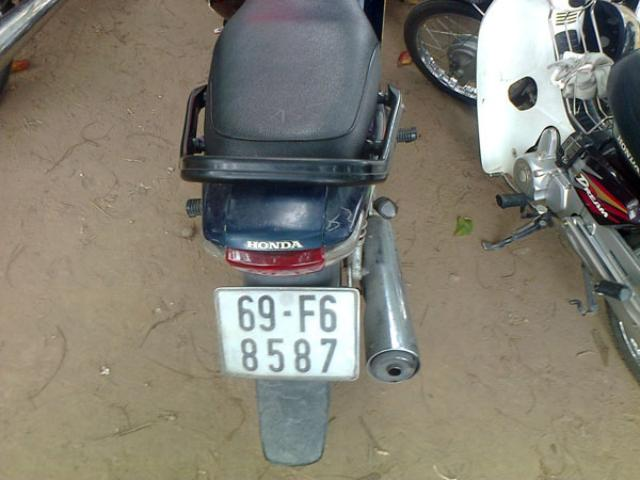plate: (212, 284, 360, 380)
